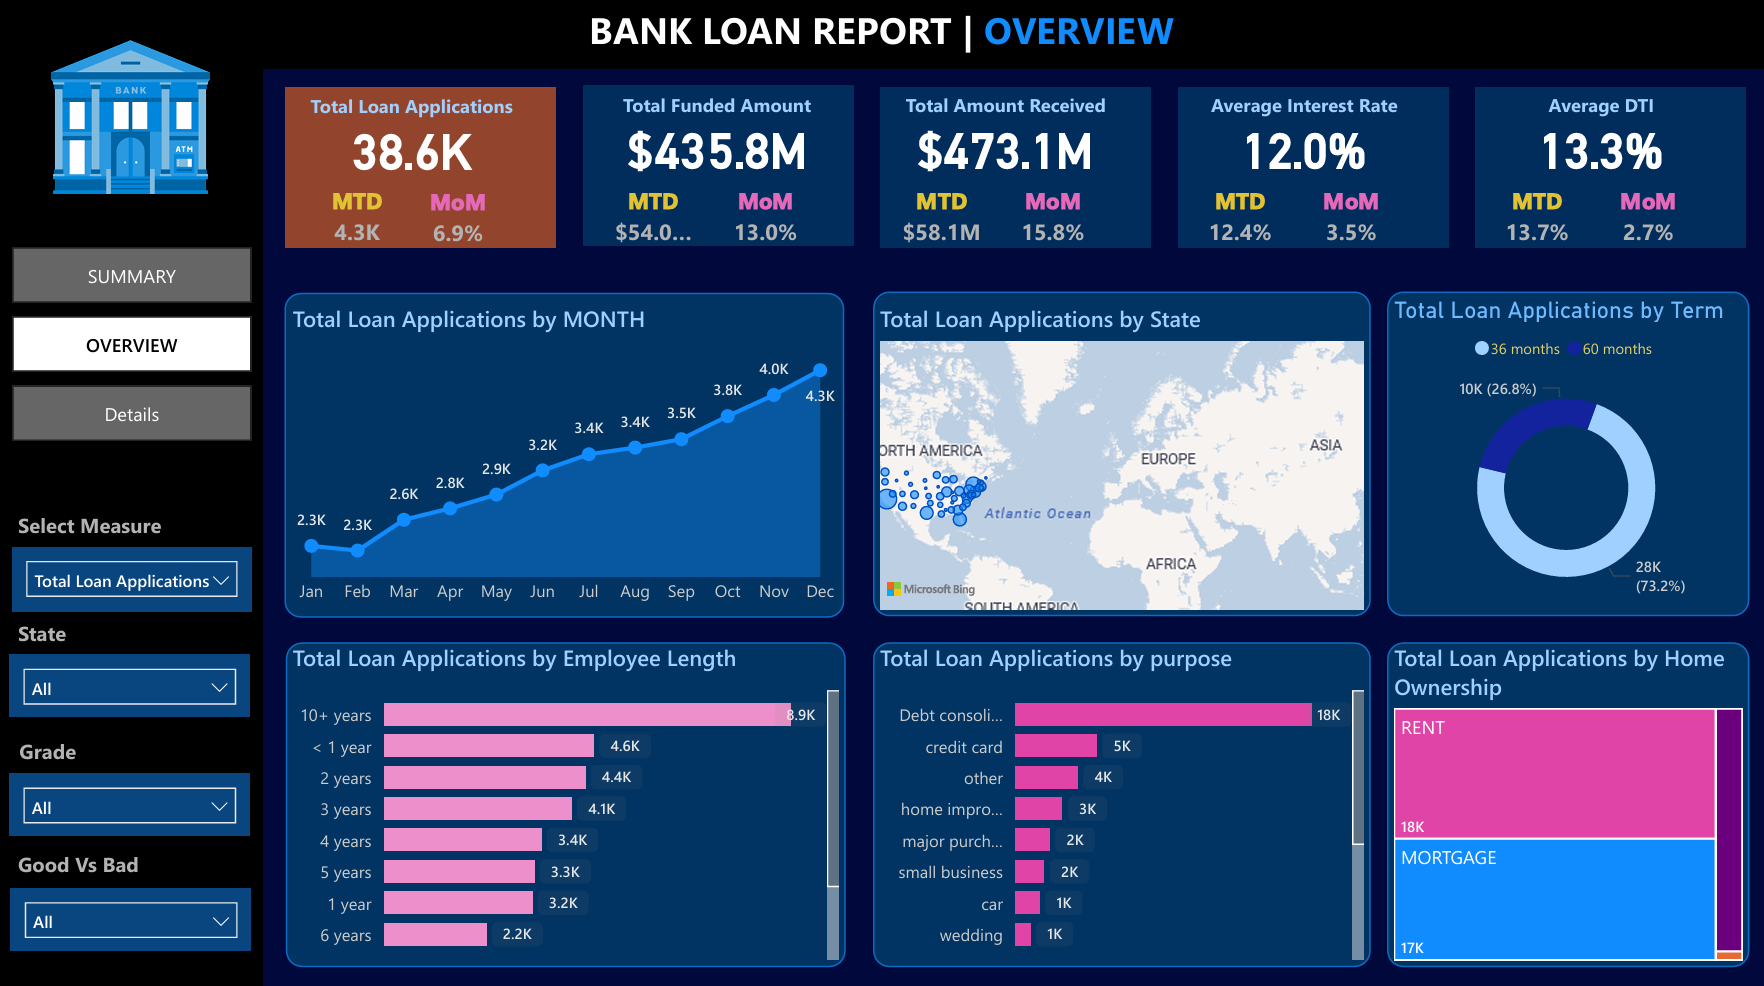

The page's visual inventory and layout, read from the dashboard file:
{"tool":"powerbi","page":{"name":"OVERVIEW","canvas":[1280,720],"ordinal":1},"visuals":[{"type":"shape","box":[0,0,1279.5,55],"z":0},{"type":"shape","box":[0,54.3,192,665.6],"z":1000},{"type":"textbox","box":[415.6,2.7,448.2,48.9],"z":2000},{"type":"shape","box":[424.2,67.1,195.7,116.4],"z":3000,"group":"g2"},{"type":"group","id":"g1","title":"Group 1","box":[208.8,67.6,195.9,120.6],"z":3000},{"type":"shape","box":[208.8,67.6,195.9,116.5],"z":3000,"group":"g1"},{"type":"shape","box":[639.5,67.9,195.6,116.7],"z":3000,"group":"g3"},{"type":"shape","box":[854.7,67.9,195.6,116.7],"z":3000,"group":"g4"},{"type":"shape","box":[1070,67.9,195.6,116.7],"z":3000,"group":"g5"},{"type":"card","fields":{"Values":["bank_loan_data.Total Amount Received"]},"box":[653.9,86.5,152.2,49.4],"z":4000,"group":"g3"},{"type":"card","fields":{"Values":["bank_loan_data.Avg Interested Rate"]},"box":[869.1,86.5,152.2,49.4],"z":4000,"group":"g4"},{"type":"card","fields":{"Values":["bank_loan_data.Avg DTI"]},"box":[1084.4,86.5,152.2,49.4],"z":4000,"group":"g5"},{"type":"card","fields":{"Values":["bank_loan_data.Total Funded Amount"]},"box":[445.4,86.8,152.2,49.4],"z":4000,"group":"g2"},{"type":"card","fields":{"Values":["bank_loan_data.Total Loan Apllications"]},"box":[223.9,87,152.2,49.4],"z":4000,"group":"g1"},{"type":"shape","box":[208.3,216.7,405,235],"z":4000},{"type":"group","id":"g2","title":"Group 1","box":[424.2,67.1,195.7,121.5],"z":5000},{"type":"textbox","box":[650,67.1,160,30],"z":5000,"group":"g3"},{"type":"textbox","box":[865.2,67.1,160,30],"z":5000,"group":"g4"},{"type":"textbox","box":[1080.5,67.1,160,30],"z":5000,"group":"g5"},{"type":"textbox","box":[441.5,67.3,160,30],"z":5000,"group":"g2"},{"type":"textbox","box":[220,67.6,160,30],"z":5000,"group":"g1"},{"type":"group","id":"g3","title":"Group 1","box":[639.5,67.1,195.7,121.4],"z":6000},{"type":"card","title":"MTD","fields":{"Values":["bank_loan_data.MTD Loan Applications"]},"box":[235.6,138.4,48.8,48.8],"z":6000,"group":"g1"},{"type":"card","title":"MTD","fields":{"Values":["bank_loan_data.MTD Total Amount Received"]},"box":[650.4,139.1,66.7,49.3],"z":6000,"group":"g3"},{"type":"card","title":"MTD","fields":{"Values":["bank_loan_data.MTD Avg Int Rate"]},"box":[865.6,139.1,66.7,49.3],"z":6000,"group":"g4"},{"type":"card","title":"MTD","fields":{"Values":["bank_loan_data.MTD Avg DTI"]},"box":[1080.9,139.1,66.7,49.3],"z":6000,"group":"g5"},{"type":"card","title":"MTD","fields":{"Values":["bank_loan_data.MTD Funded Amount"]},"box":[441.9,139.3,66.7,49.3],"z":6000,"group":"g2"},{"type":"group","id":"g4","title":"Group 1","box":[854.7,67.1,195.7,121.4],"z":7000},{"type":"card","title":"MoM","fields":{"Values":["bank_loan_data.MoM Total Amount Received"]},"box":[732.5,139,64.3,49.3],"z":7000,"group":"g3"},{"type":"card","title":"MoM","fields":{"Values":["bank_loan_data.MoM Avg Int Rate"]},"box":[947.7,139,64.3,49.3],"z":7000,"group":"g4"},{"type":"card","title":"MoM","fields":{"Values":["bank_loan_data.MoM Avg DTI"]},"box":[1163,139,64.3,49.3],"z":7000,"group":"g5"},{"type":"card","title":"MoM","fields":{"Values":["bank_loan_data.MoM Total Funded Amount"]},"box":[524,139.2,64.3,49.3],"z":7000,"group":"g2"},{"type":"card","title":"MoM","fields":{"Values":["bank_loan_data.MoM Loan Applications"]},"box":[299.3,139.7,67.5,48.8],"z":7000,"group":"g1"},{"type":"group","id":"g5","title":"Group 1","box":[1070,67.1,197.1,121.4],"z":8000},{"type":"slicer","fields":{"Values":["bank_loan_data.address_state"]},"box":[8.8,478.8,173.8,45],"z":9000},{"type":"textbox","box":[10,447.5,172.5,31.2],"z":10000},{"type":"slicer","fields":{"Values":["bank_loan_data.grade"]},"box":[8.8,565,173.8,45],"z":11000},{"type":"textbox","box":[11.2,532.5,172.5,32.5],"z":12000},{"type":"textbox","box":[10,615,173.8,32.5],"z":13000},{"type":"areaChart","fields":{"Y":["bank_loan_data.Total Loan Applications"],"Category":["DATE TABLE.MONTH"]},"box":[208.8,225,405,226.2],"z":14000},{"type":"slicer","fields":{"Values":["Select Measure.Select Measure"]},"box":[11.2,401.2,172.5,46.2],"z":15000},{"type":"textbox","box":[10,370,173.8,31.2],"z":16000},{"type":"shape","box":[633.8,216.2,360,235],"z":17000},{"type":"map","fields":{"Size":["bank_loan_data.Total Loan Applications"],"Category":["bank_loan_data.address_state"]},"box":[633.8,225,360,226.2],"z":18000},{"type":"shape","box":[1006.2,216.2,261.2,235],"z":19000},{"type":"donutChart","fields":{"Y":["bank_loan_data.Total Loan Applications"],"Category":["bank_loan_data.term"]},"box":[1006.2,218.8,258.8,232.5],"z":20000},{"type":"shape","box":[208.8,470,405,235],"z":21000},{"type":"barChart","fields":{"Y":["bank_loan_data.Total Loan Applications"],"Category":["bank_loan_data.emp_length"]},"box":[208.8,470,405,235],"z":22000},{"type":"shape","box":[633.8,470,360,235],"z":23000},{"type":"barChart","fields":{"Y":["bank_loan_data.Total Loan Applications"],"Category":["bank_loan_data.purpose"]},"box":[633.8,470,360,235],"z":24000},{"type":"shape","box":[1006.2,470,261.2,235],"z":25000},{"type":"treemap","fields":{"Values":["bank_loan_data.Total Loan Applications"],"Group":["bank_loan_data.home_ownership"]},"box":[1006.2,470,261.2,235],"z":26000},{"type":"pageNavigator","box":[11.2,183.8,172.5,141.2],"z":27000},{"type":"image","box":[33.8,27.5,125,122.5],"z":28000},{"type":"slicer","fields":{"Values":["bank_loan_data.Good Vs Bad Loan"]},"box":[10,647.5,173.8,45],"z":29000}]}

Visuals, with their boxes in screenshot pixels (x1, y1, x2, y2), scaled from the page's 1280x720 canvas onto the 1764x986 screenshot:
shape: (left=0, top=0, right=1763, bottom=75)
shape: (left=0, top=74, right=265, bottom=985)
textbox: (left=573, top=4, right=1190, bottom=71)
shape: (left=585, top=92, right=854, bottom=251)
"Group 1" group: (left=288, top=93, right=558, bottom=258)
shape: (left=288, top=93, right=558, bottom=252)
shape: (left=881, top=93, right=1151, bottom=253)
shape: (left=1178, top=93, right=1447, bottom=253)
shape: (left=1475, top=93, right=1744, bottom=253)
card - bank_loan_data.Total Amount Received: (left=901, top=118, right=1111, bottom=186)
card - bank_loan_data.Avg Interested Rate: (left=1198, top=118, right=1407, bottom=186)
card - bank_loan_data.Avg DTI: (left=1494, top=118, right=1704, bottom=186)
card - bank_loan_data.Total Funded Amount: (left=614, top=119, right=824, bottom=187)
card - bank_loan_data.Total Loan Apllications: (left=309, top=119, right=518, bottom=187)
shape: (left=287, top=297, right=845, bottom=619)
"Group 1" group: (left=585, top=92, right=854, bottom=258)
textbox: (left=896, top=92, right=1116, bottom=133)
textbox: (left=1192, top=92, right=1413, bottom=133)
textbox: (left=1489, top=92, right=1710, bottom=133)
textbox: (left=608, top=92, right=829, bottom=133)
textbox: (left=303, top=93, right=524, bottom=134)
"Group 1" group: (left=881, top=92, right=1151, bottom=258)
"MTD" card: (left=325, top=190, right=392, bottom=256)
"MTD" card: (left=896, top=190, right=988, bottom=258)
"MTD" card: (left=1193, top=190, right=1285, bottom=258)
"MTD" card: (left=1490, top=190, right=1582, bottom=258)
"MTD" card: (left=609, top=191, right=701, bottom=258)
"Group 1" group: (left=1178, top=92, right=1448, bottom=258)
"MoM" card: (left=1009, top=190, right=1098, bottom=258)
"MoM" card: (left=1306, top=190, right=1395, bottom=258)
"MoM" card: (left=1603, top=190, right=1691, bottom=258)
"MoM" card: (left=722, top=191, right=811, bottom=258)
"MoM" card: (left=412, top=191, right=505, bottom=258)
"Group 1" group: (left=1475, top=92, right=1746, bottom=258)
slicer - bank_loan_data.address_state: (left=12, top=656, right=252, bottom=717)
textbox: (left=14, top=613, right=252, bottom=656)
slicer - bank_loan_data.grade: (left=12, top=774, right=252, bottom=835)
textbox: (left=15, top=729, right=253, bottom=774)
textbox: (left=14, top=842, right=253, bottom=887)
areaChart - bank_loan_data.Total Loan Applications x DATE TABLE.MONTH: (left=288, top=308, right=846, bottom=618)
slicer - Select Measure.Select Measure: (left=15, top=549, right=253, bottom=613)
textbox: (left=14, top=507, right=253, bottom=549)
shape: (left=873, top=296, right=1370, bottom=618)
map - bank_loan_data.Total Loan Applications x bank_loan_data.address_state: (left=873, top=308, right=1370, bottom=618)
shape: (left=1387, top=296, right=1747, bottom=618)
donutChart - bank_loan_data.Total Loan Applications x bank_loan_data.term: (left=1387, top=300, right=1743, bottom=618)
shape: (left=288, top=644, right=846, bottom=965)
barChart - bank_loan_data.Total Loan Applications x bank_loan_data.emp_length: (left=288, top=644, right=846, bottom=965)
shape: (left=873, top=644, right=1370, bottom=965)
barChart - bank_loan_data.Total Loan Applications x bank_loan_data.purpose: (left=873, top=644, right=1370, bottom=965)
shape: (left=1387, top=644, right=1747, bottom=965)
treemap - bank_loan_data.Total Loan Applications x bank_loan_data.home_ownership: (left=1387, top=644, right=1747, bottom=965)
pageNavigator: (left=15, top=252, right=253, bottom=445)
image: (left=47, top=38, right=219, bottom=205)
slicer - bank_loan_data.Good Vs Bad Loan: (left=14, top=887, right=253, bottom=948)
